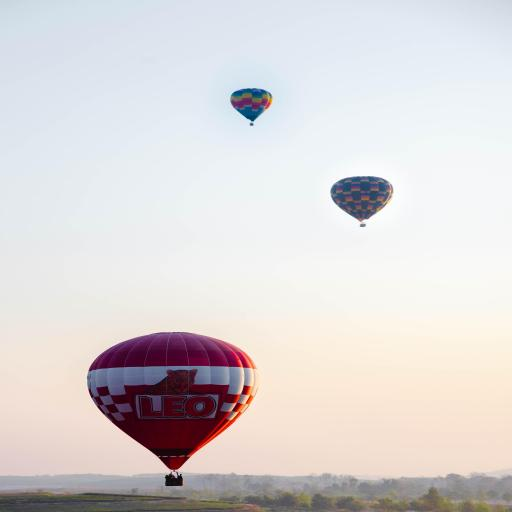hot air ballon: (79, 327, 257, 488), (324, 172, 393, 232), (228, 84, 274, 130)
